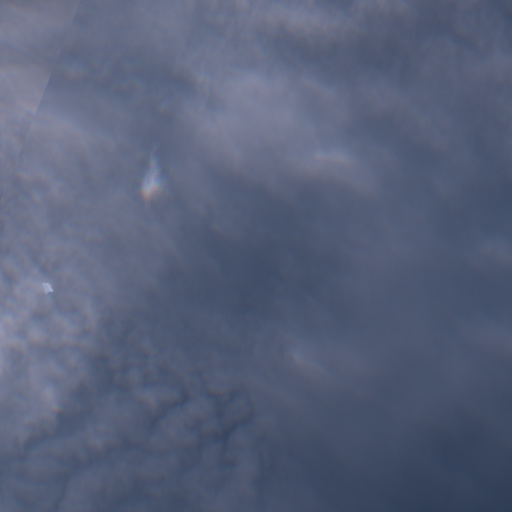Iceberg: (42, 283, 53, 293)
